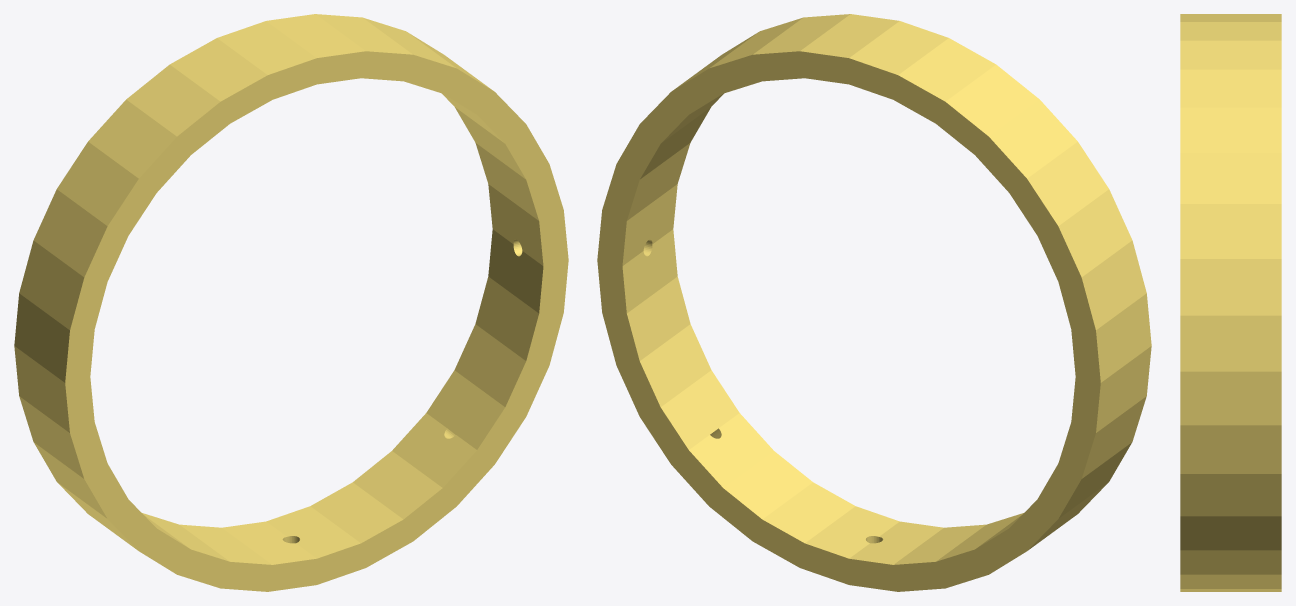
File: small_fly_wheel_outer.fbx
3 renders of one model, left to right at view 1: azimuth 30°, elevation 25°; view 2: azimuth 150°, elevation 25°; view 3: azimuth 270°, elevation 25°, orthographic.
Parts seen in each view (by area): view 1: Cylinder; view 2: Cylinder; view 3: Cylinder.
Boxes of the visible parts, <box> form: Cylinder: <box>14,14,568,591</box>; Cylinder: <box>597,14,1151,591</box>; Cylinder: <box>1180,14,1281,591</box>.
Bounding box in the file's own units: 40 × 40 × 7.
